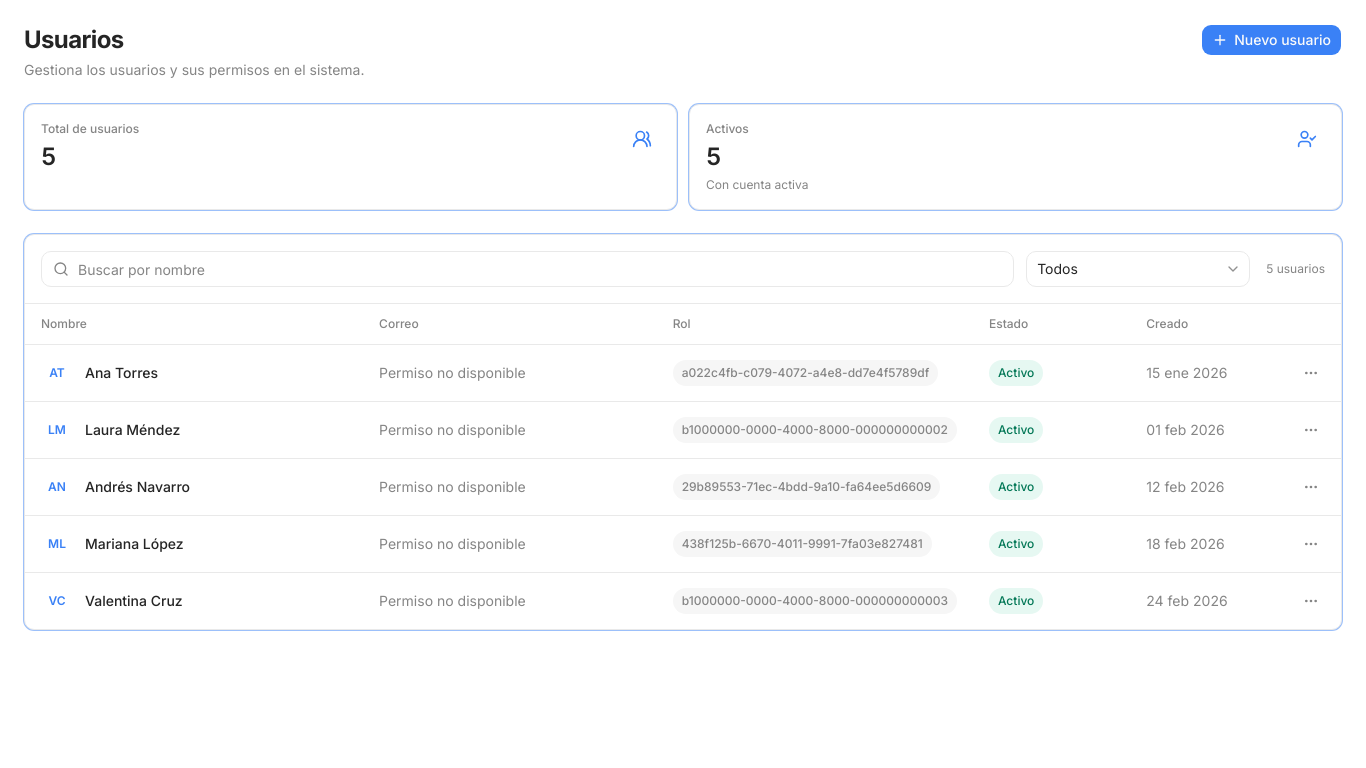
Test: UsuariosListPage › filtra por rol al cambiar el select de filtro a "Administrador"
The image size is (1366, 768).
Expected: the text "Ana Torres" is shown, [85,363,158,383]
Press ArrowDown in the dropdown named "filtrar por rol", box [1026,251,1250,287]
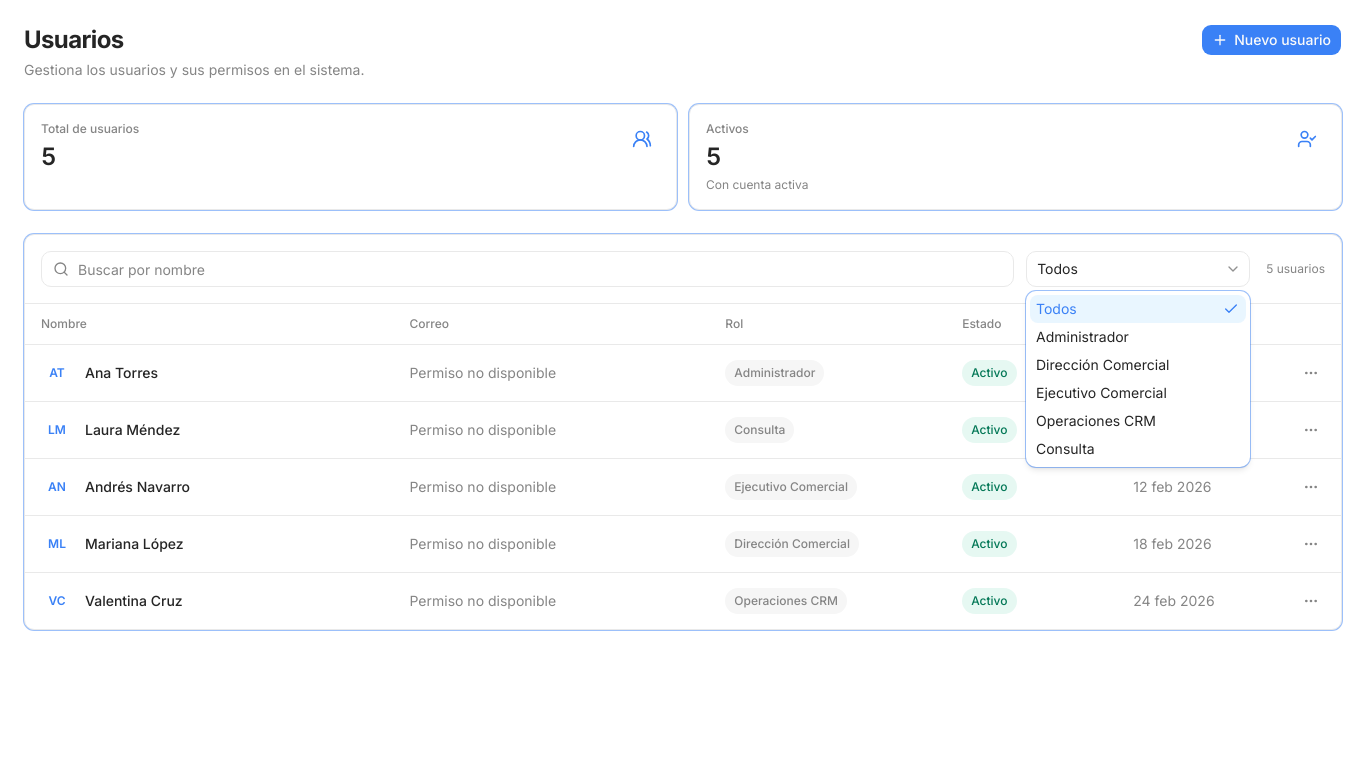
Click the option "Administrador". click: point(1082, 336)
box: [1036,328,1129,345]
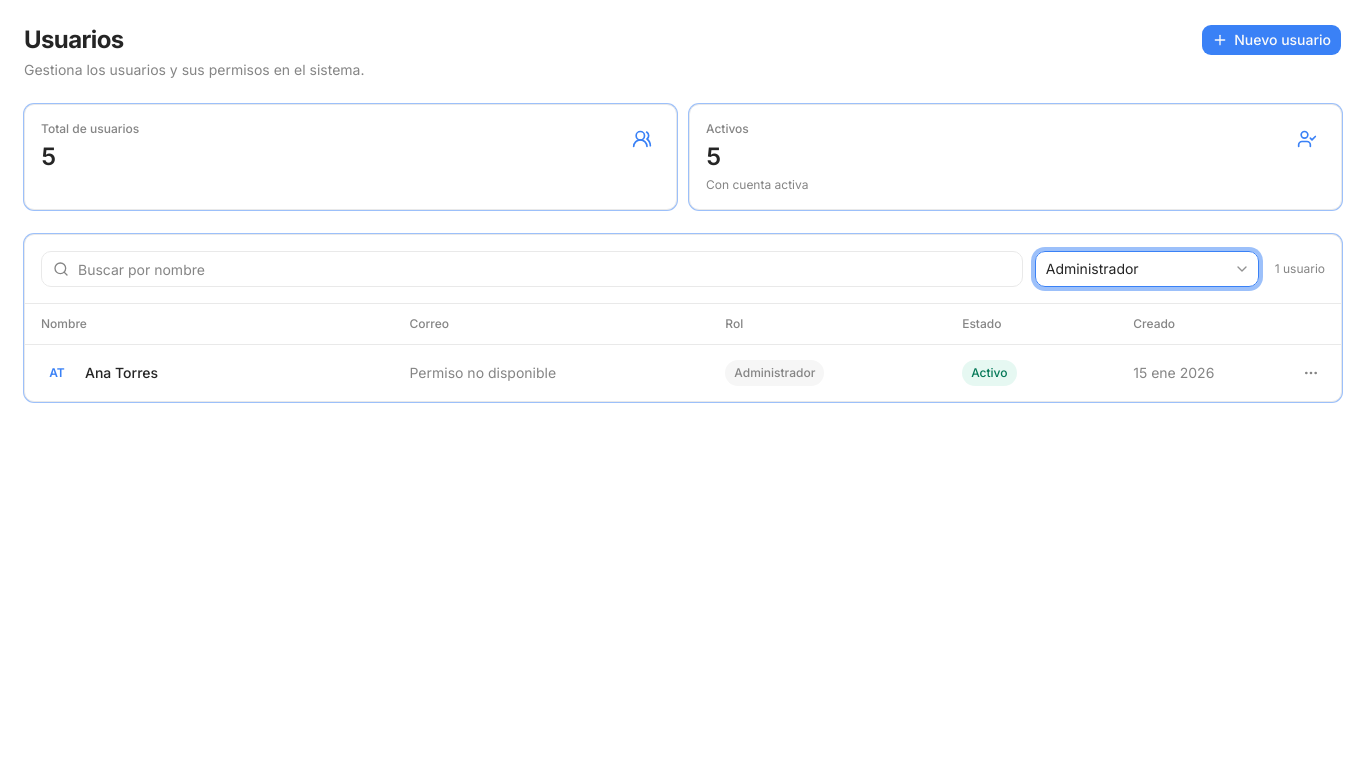
Expected: the text "Ana Torres" is shown, [85,363,158,383]
Result: the text "Laura Méndez" is gone
